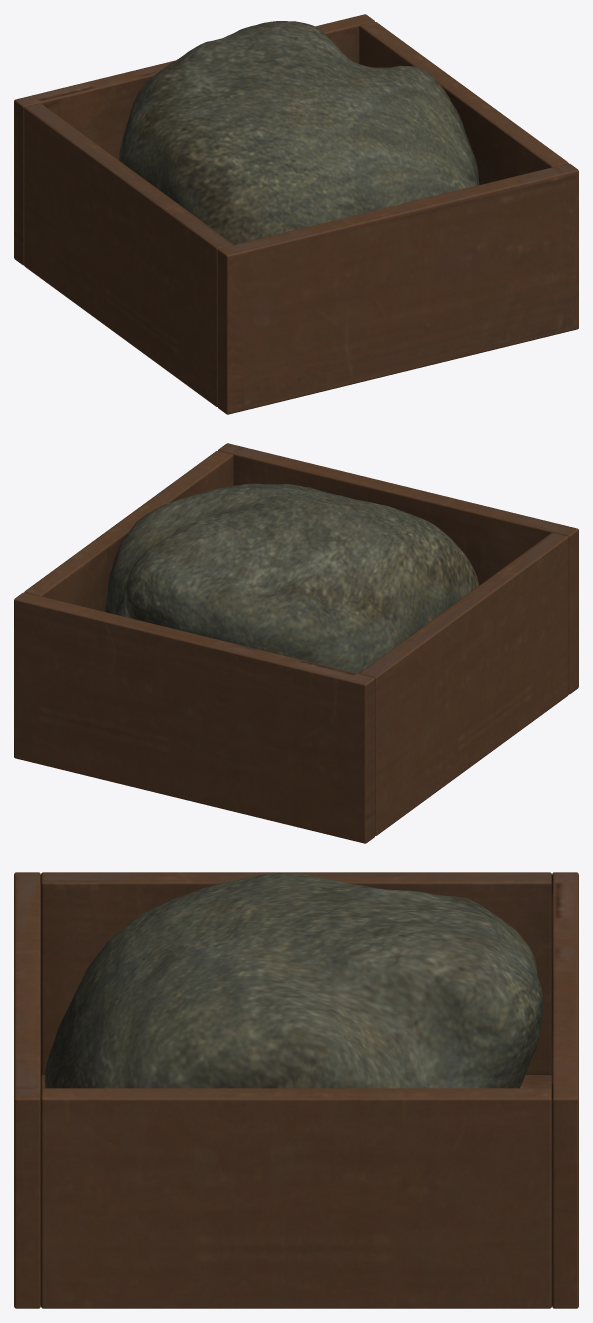
The model's file is caixa_01_rocha_nao_alterada.glb.
3 views of the same model, one above another, from view 1: azimuth 30°, elevation 25°; view 2: azimuth 150°, elevation 25°; view 3: azimuth 270°, elevation 25° (orthographic). The views are drawn at different scales.
Parts seen in each view (by area): view 1: Parede_Frontal, Rocha_Principal, Lateral_Esquerda, Parede_Traseira, Lateral_Direita; view 2: Parede_Traseira, Rocha_Principal, Lateral_Esquerda, Parede_Frontal, Lateral_Direita; view 3: Lateral_Direita, Rocha_Principal, Lateral_Esquerda, Parede_Frontal, Parede_Traseira.
Boxes of the visible parts, left/top/right/bottom form: Parede_Frontal: left=217, top=163, right=578, bottom=414; Rocha_Principal: left=119, top=21, right=479, bottom=244; Lateral_Esquerda: left=24, top=103, right=233, bottom=406; Parede_Traseira: left=14, top=14, right=374, bottom=265; Lateral_Direita: left=359, top=22, right=568, bottom=184; Parede_Traseira: left=14, top=592, right=375, bottom=843; Rocha_Principal: left=104, top=483, right=479, bottom=673; Lateral_Esquerda: left=359, top=532, right=568, bottom=835; Parede_Frontal: left=218, top=443, right=578, bottom=694; Lateral_Direita: left=24, top=451, right=233, bottom=611; Lateral_Direita: left=41, top=1088, right=551, bottom=1308; Rocha_Principal: left=45, top=873, right=543, bottom=1088; Lateral_Esquerda: left=41, top=872, right=551, bottom=1075; Parede_Frontal: left=14, top=872, right=40, bottom=1308; Parede_Traseira: left=552, top=872, right=578, bottom=1308.
Size of the model in its own units: 0.3 by 0.1761 by 0.315.
2 materials, 2 textured.
